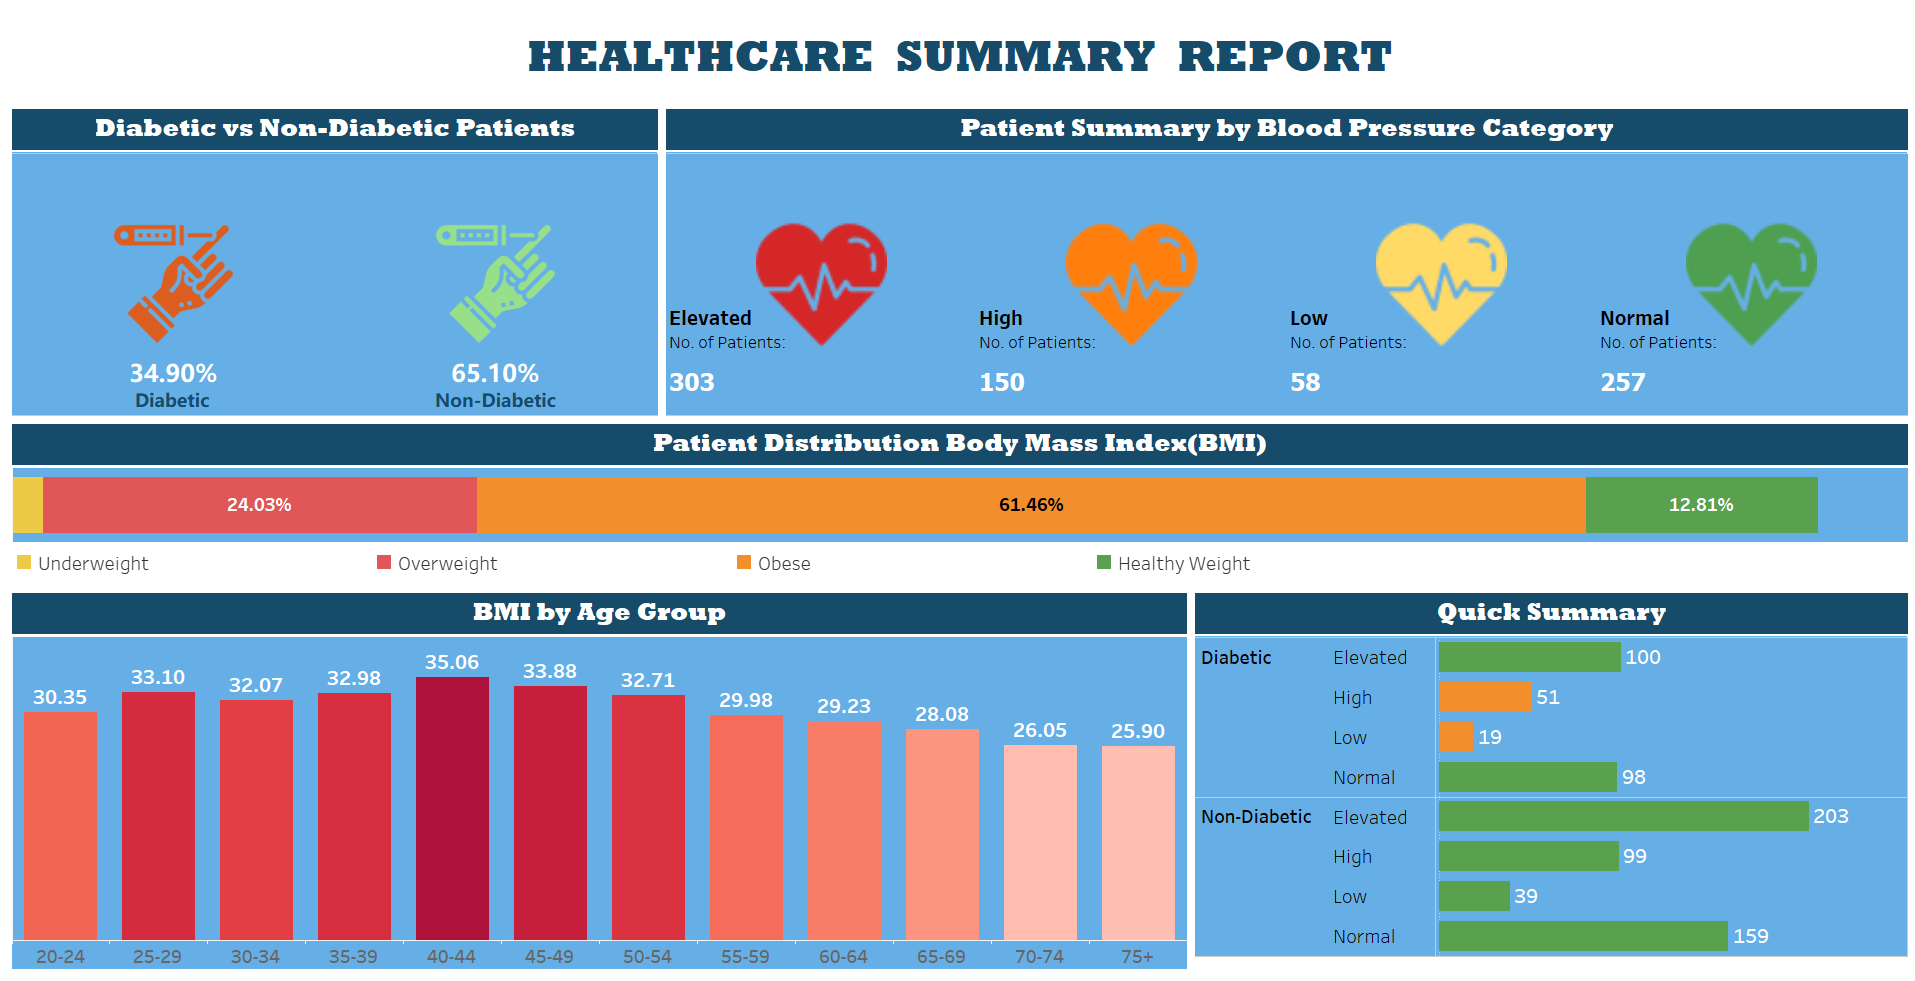

What the dashboard file says about the page in this screenshot:
{"tool":"tableau","page":{"name":"Healthcare Summary Report","canvas":[1000,1000],"units":"permille","ordinal":0},"visuals":[{"type":"text","box":[4.8,10,990.3,100.6]},{"type":"worksheet","title":"Diabetic/Non-Diabetic","mark":"Shape","cols":["Calculation_241505561885626368"],"box":[4.8,110.6,340.4,319.4]},{"type":"worksheet","title":"BP","mark":"Shape","cols":["Blood Pressure Systolic"],"box":[345.2,110.6,650,319.4]},{"type":"worksheet","title":"BMI Distribution by Count","mark":"Automatic","cols":["ID"],"box":[4.8,430,990.3,127.6]},{"type":"legend","title":"BMI Distribution by Count","param":"[federated.1lnnjgp1htxu561b2tmmu0b3hwlw].[none:Calculation_738590370828627968:nk","box":[4.8,557.5,990.3,43.1]},{"type":"worksheet","title":"BMI by Age","mark":"Automatic","rows":["BMI"],"cols":["Age (bin)"],"box":[4.8,600.6,615.4,389.4]},{"type":"worksheet","title":"Quick Summary","mark":"Automatic","rows":["Calculation_241505561885626368","Blood Pressure Systolic"],"cols":["ID"],"box":[620.2,600.6,374.9,389.4]}]}

Visuals, with their boxes on the dashboard's canvas, which has no fixed pixel size, in thousandths of its width and height (x1, y1, x2, y2). These are canvas units, not pixel positions in the 1915x981 screenshot, which may show the page scaled, cropped or inside an application window:
text: region(5, 10, 995, 111)
"Diabetic/Non-Diabetic" worksheet (Shape marks): region(5, 111, 345, 430)
"BP" worksheet (Shape marks): region(345, 111, 995, 430)
"BMI Distribution by Count" worksheet: region(5, 430, 995, 558)
"BMI Distribution by Count" legend: region(5, 558, 995, 601)
"BMI by Age" worksheet: region(5, 601, 620, 990)
"Quick Summary" worksheet: region(620, 601, 995, 990)
